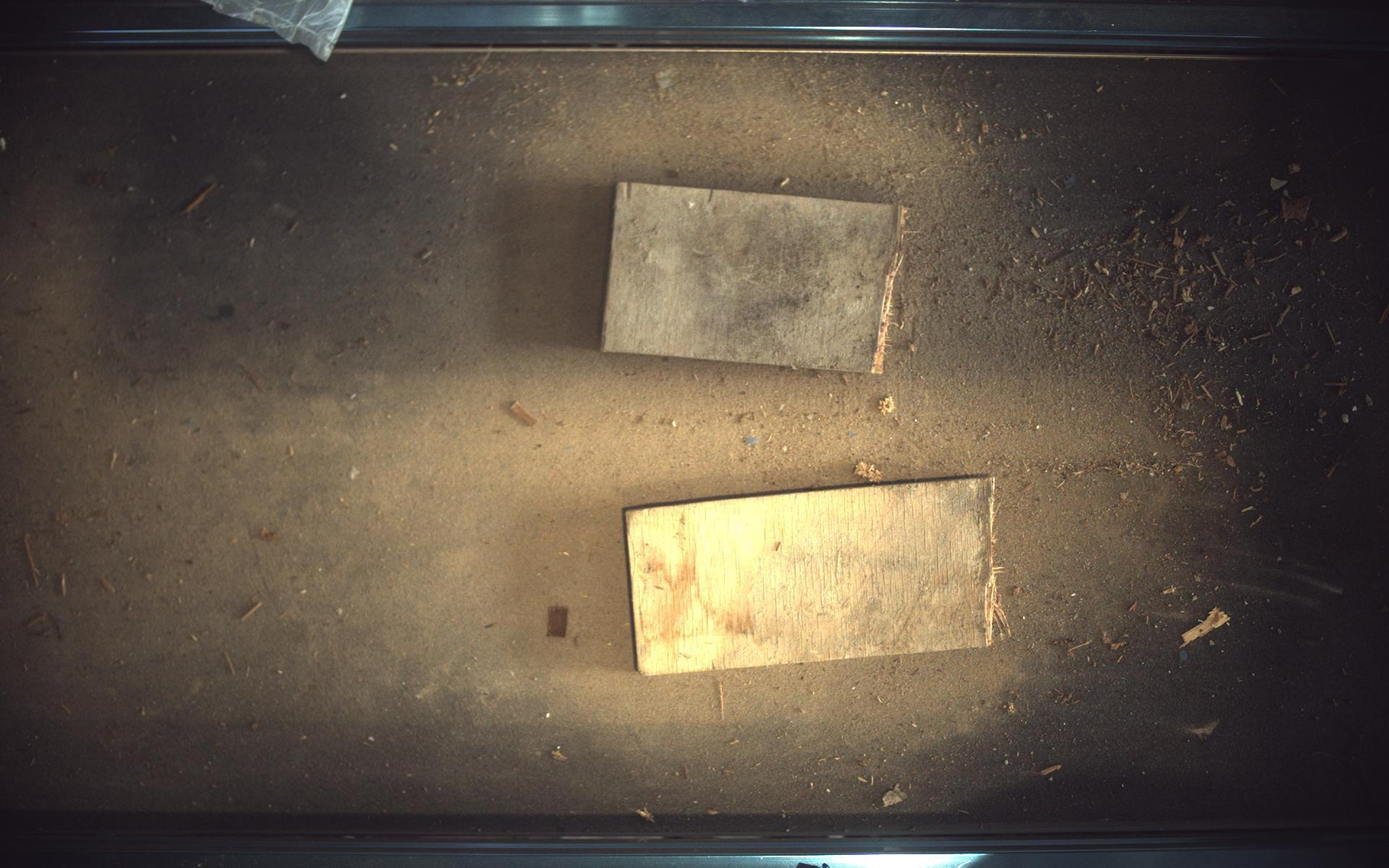wood: (625, 476, 1010, 676), (604, 181, 907, 373)
